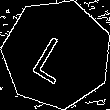L_NE: (30, 24, 83, 83)
